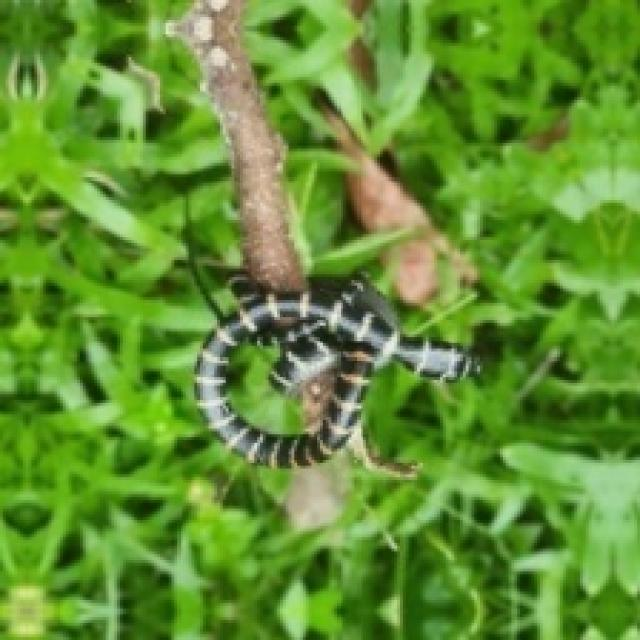paradise tree snake: (194, 274, 469, 471)
